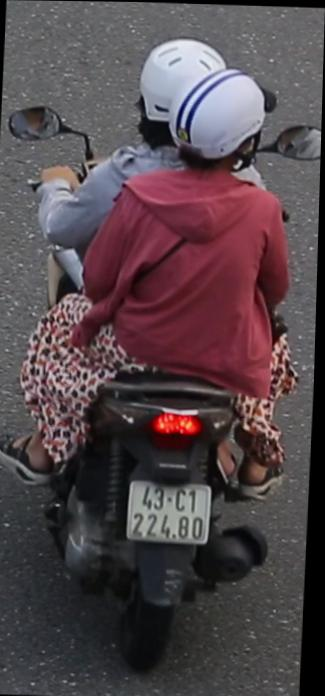LP: (125, 474, 218, 551)
helmet: (170, 64, 276, 193)
